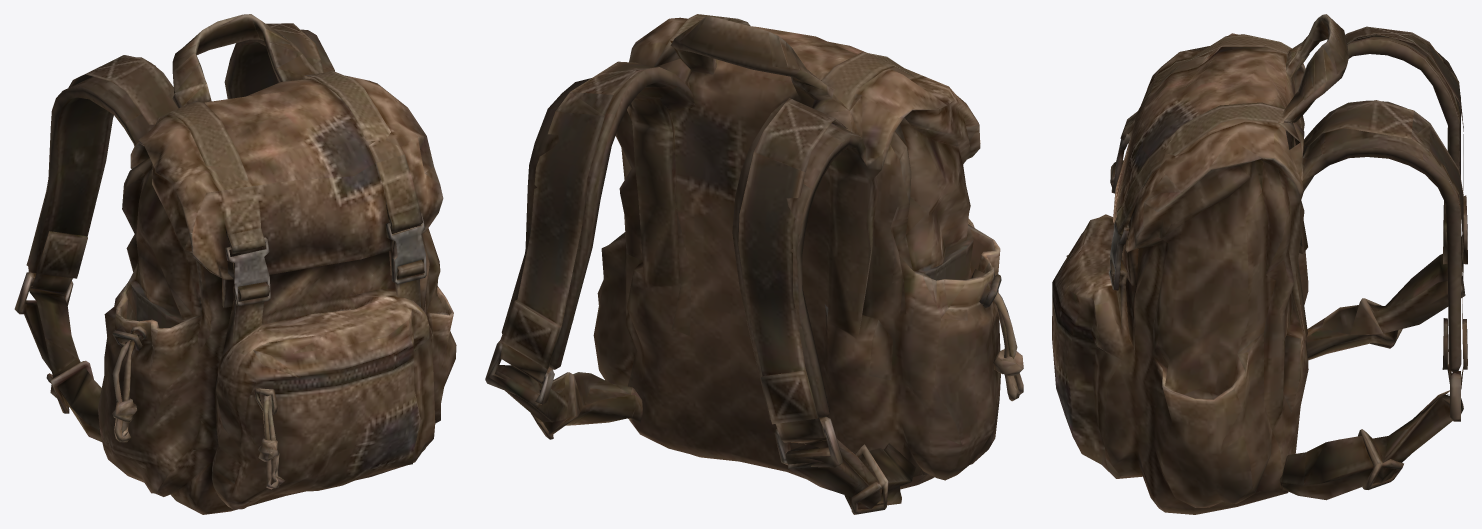
File: g_backpack_canvas.glb
3 renders of one model, left to right at view 1: azimuth 30°, elevation 25°; view 2: azimuth 150°, elevation 25°; view 3: azimuth 270°, elevation 25°, orthographic. The views are drawn at different scales.
Size of the model in its own units: 0.8296 by 0.9526 by 0.8076.
Materials: 1 (1 with a texture image).
